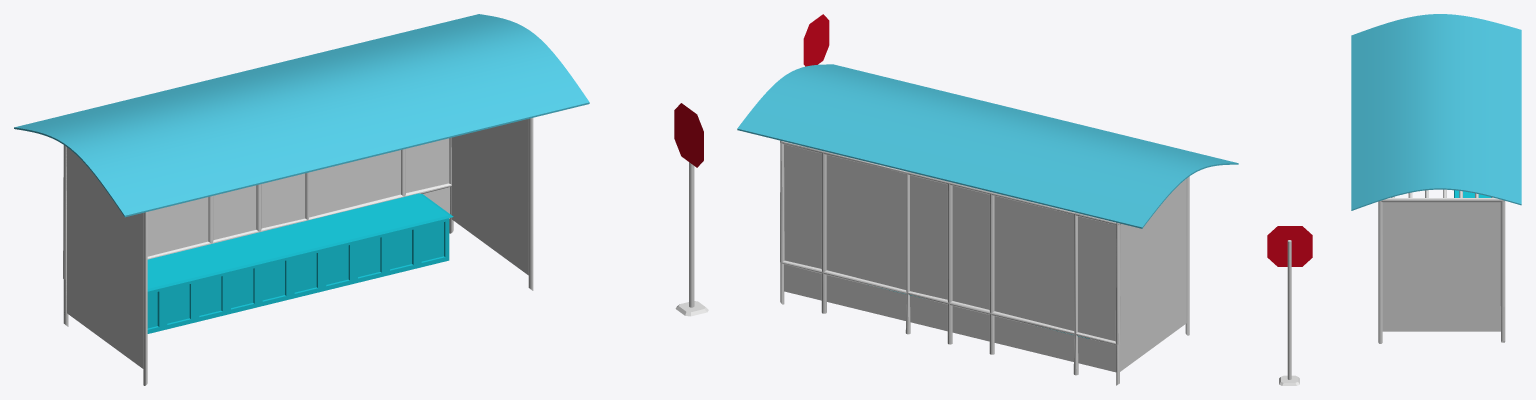
File: Bus StopP.fbx
3 renders of one model, left to right at view 1: azimuth 30°, elevation 25°; view 2: azimuth 150°, elevation 25°; view 3: azimuth 270°, elevation 25°, orthographic. The views are drawn at different scales.
Visible parts, largest first — view 1: Cube; view 2: Cube; view 3: Cube.
Boxes of the visible parts, x1,y1,x2,y2 form: Cube: (14, 14, 708, 385); Cube: (737, 14, 1238, 385); Cube: (1267, 14, 1521, 385).
Size of the model in its own units: 1938 by 760 by 1029.
